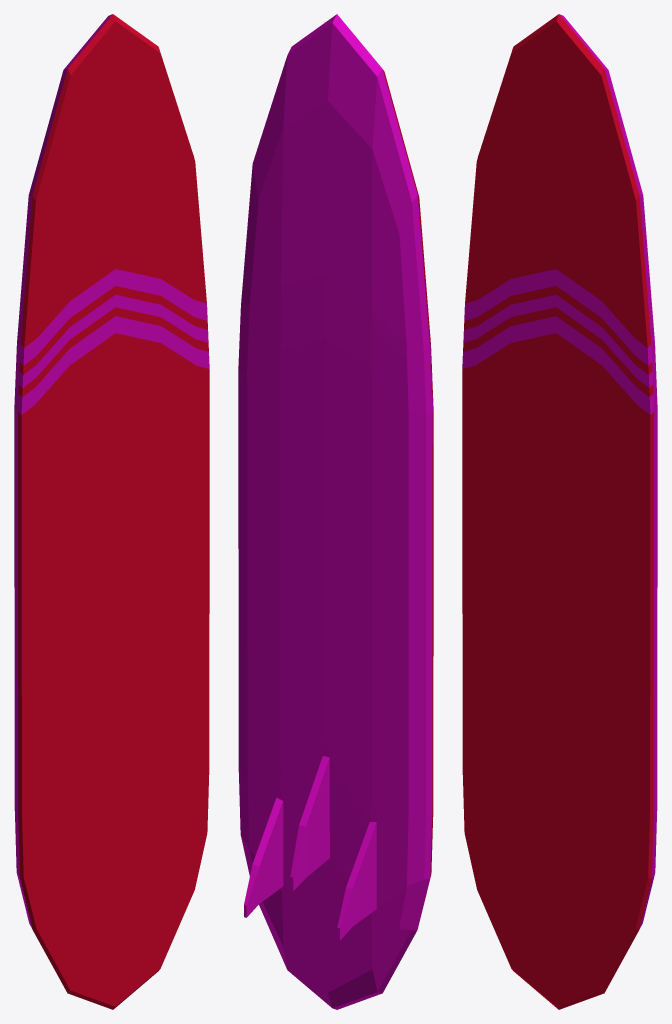
Rendered from Surfboard_01.fbx.
3 renders of one model, left to right at view 1: azimuth 30°, elevation 25°; view 2: azimuth 150°, elevation 25°; view 3: azimuth 330°, elevation 25°, orthographic.
Visible parts, largest first — view 1: Surfboard_01; view 2: Surfboard_01; view 3: Surfboard_01.
Boxes of the visible parts, box(x1,y1,x2,y2) form: Surfboard_01: box(14, 14, 209, 1009); Surfboard_01: box(238, 14, 433, 1009); Surfboard_01: box(462, 14, 657, 1009).
Size of the model in its own units: 2.49 by 12.42 by 1.08.
